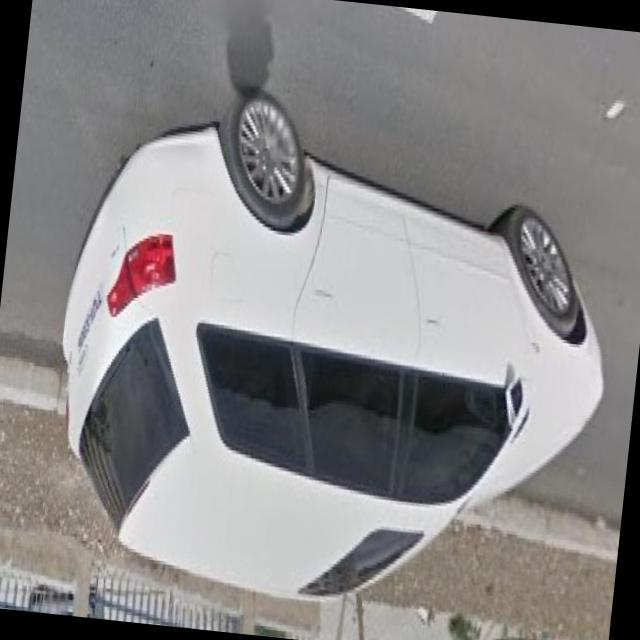car: (35, 80, 628, 623)
